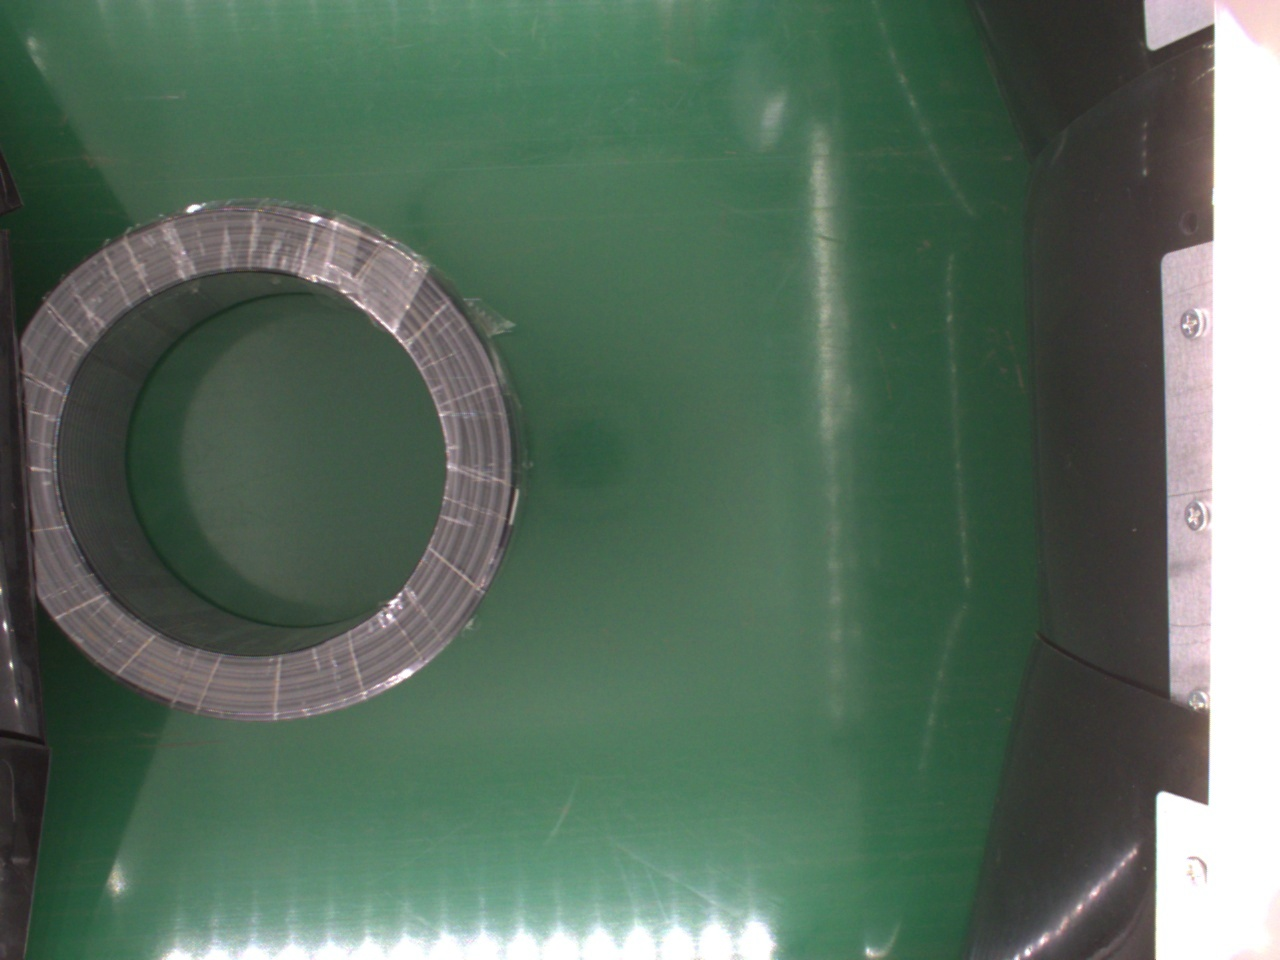black: (18, 197, 519, 720)
